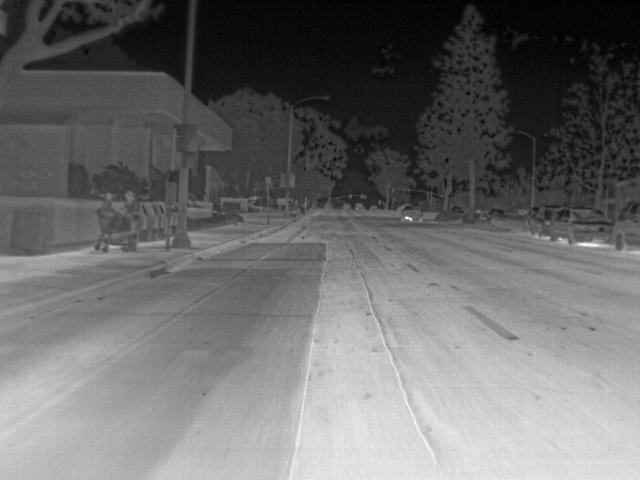car: (549, 205, 614, 246), (610, 198, 639, 250), (528, 203, 559, 239), (399, 207, 422, 223)
person: (125, 190, 144, 250), (98, 192, 117, 250)
